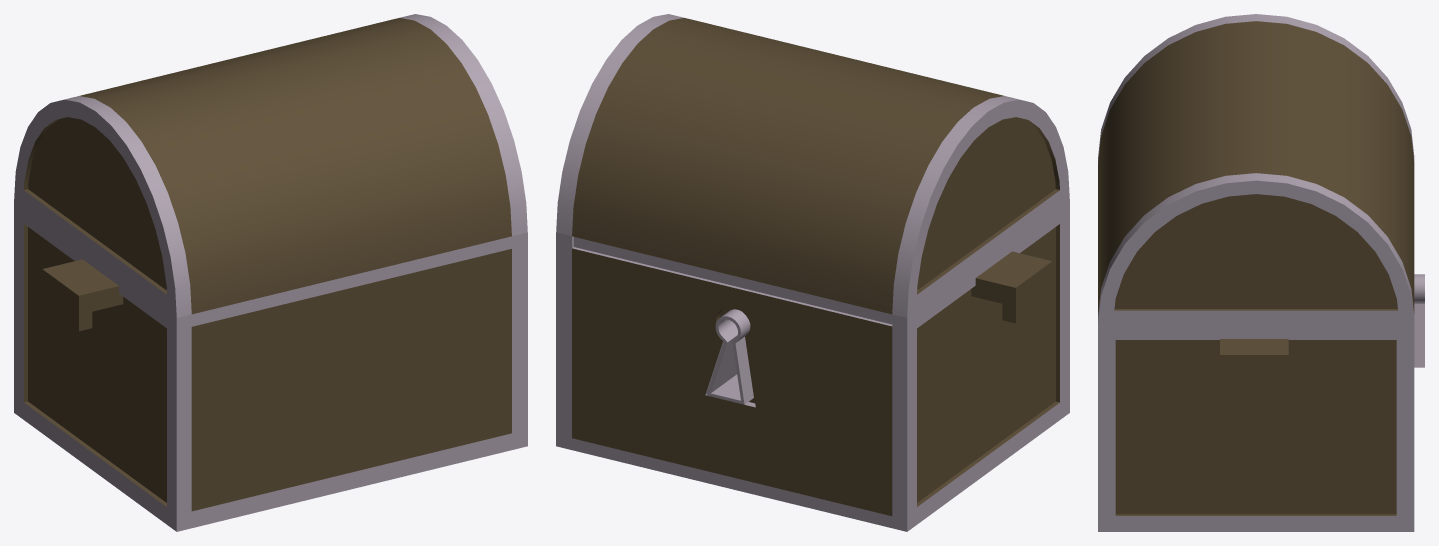
Rendered from TresureBox.fbx.
The picture shows the model from 3 angles, left to right: view 1: azimuth 30°, elevation 25°; view 2: azimuth 150°, elevation 25°; view 3: azimuth 270°, elevation 25°; orthographic projection. The views are drawn at different scales.
Visible parts, largest first — view 1: Model; view 2: Model; view 3: Model.
Boxes of the visible parts, <box> form: Model: <box>14,14,527,531</box>; Model: <box>556,14,1069,531</box>; Model: <box>1098,14,1424,531</box>.
Size of the model in its own units: 248 by 201 by 170.
